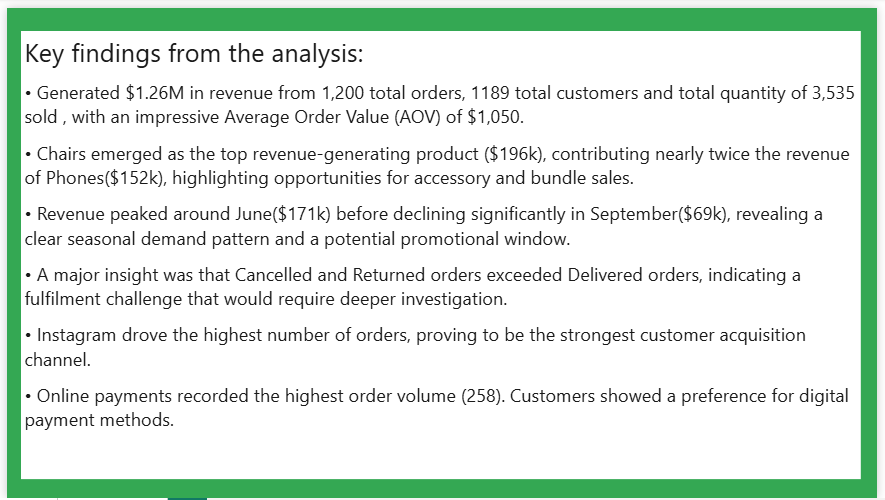

The dashboard page shown, as its layout file describes it:
{"tool":"powerbi","page":{"name":"Key Findings","canvas":[1280,720],"ordinal":1},"visuals":[{"type":"textbox","box":[20.6,33.8,1235.3,658.8],"z":0}]}

Visuals, with their boxes in screenshot pixels (x1, y1, x2, y2), scaled from the page's 1280x720 canvas onto the 885x500 screenshot:
textbox: bbox(14, 23, 868, 481)
